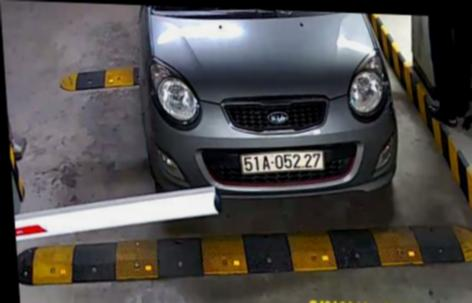License_Plate: (237, 147, 330, 177)
